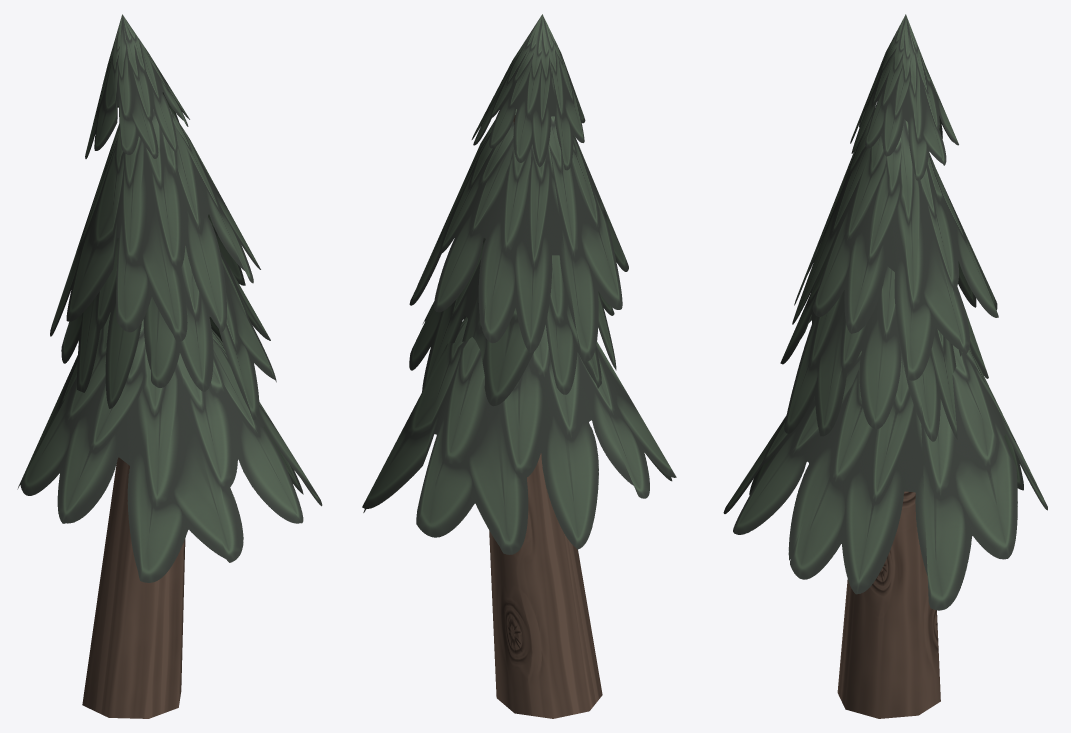
File: tree_c_01.FBX
3 renders of one model, left to right at view 1: azimuth 30°, elevation 25°; view 2: azimuth 150°, elevation 25°; view 3: azimuth 270°, elevation 25°, orthographic.
Parts seen in each view (by area): view 1: tree_c_01; view 2: tree_c_01; view 3: tree_c_01.
Part boxes in pixels (<box>): tree_c_01: <box>17,14,322,718</box>; tree_c_01: <box>362,14,676,718</box>; tree_c_01: <box>723,14,1047,718</box>.
Size of the model in its own units: 20.19 by 49.34 by 22.5.
Materials: 2 (2 with a texture image).
